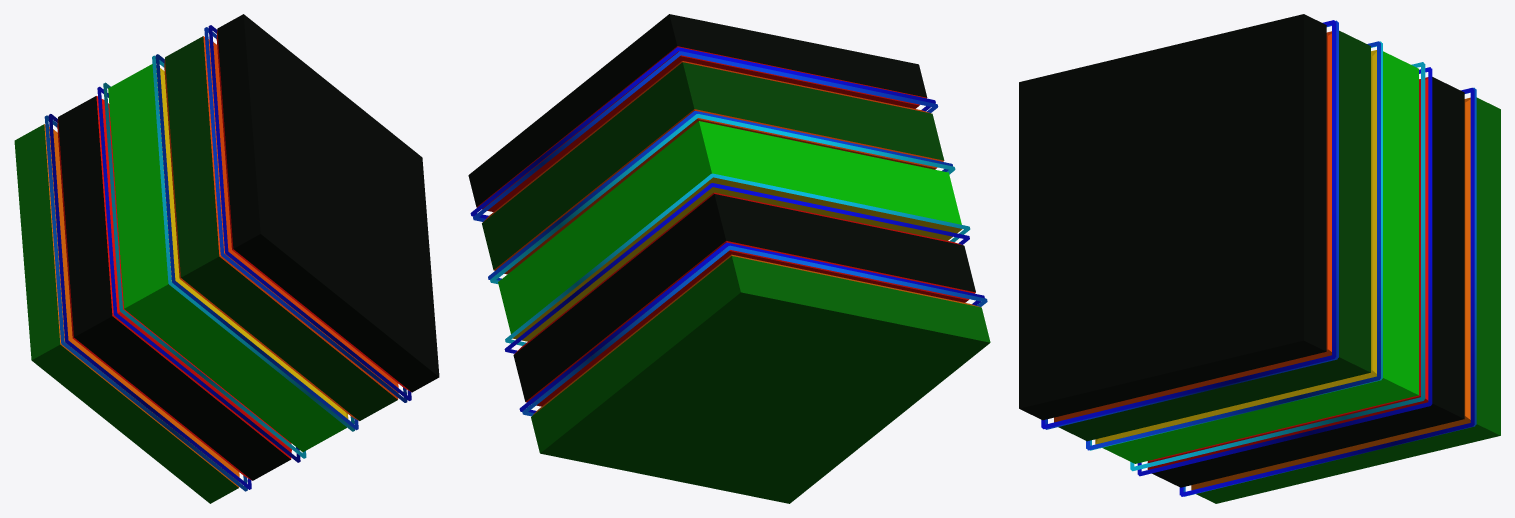
3 renders of one model, left to right at view 1: azimuth 30°, elevation 25°; view 2: azimuth 150°, elevation 25°; view 3: azimuth 270°, elevation 25°, orthographic. The views are drawn at different scales.
Parts seen in each view (by area): view 1: Box_C; view 2: Box_C; view 3: Box_C.
Boxes of the visible parts, x1=… form: Box_C: x1=14, y1=14, x2=439, y2=503; Box_C: x1=468, y1=14, x2=990, y2=503; Box_C: x1=1019, y1=14, x2=1500, y2=503.
Bounding box in the file's own units: 1692 × 1685 × 1386.
